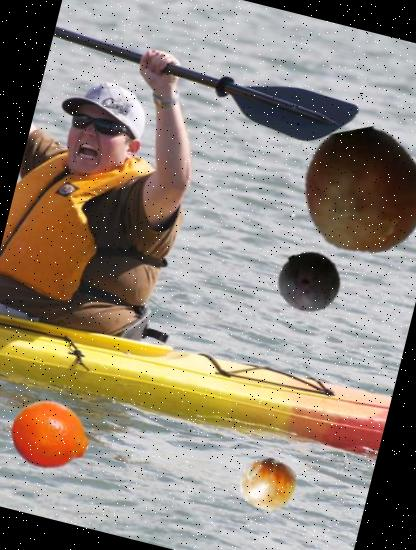Nut: (289, 115, 416, 268)
Onion: (232, 450, 304, 522)
Plum: (270, 244, 348, 322)
Tangelo: (3, 388, 99, 484)
